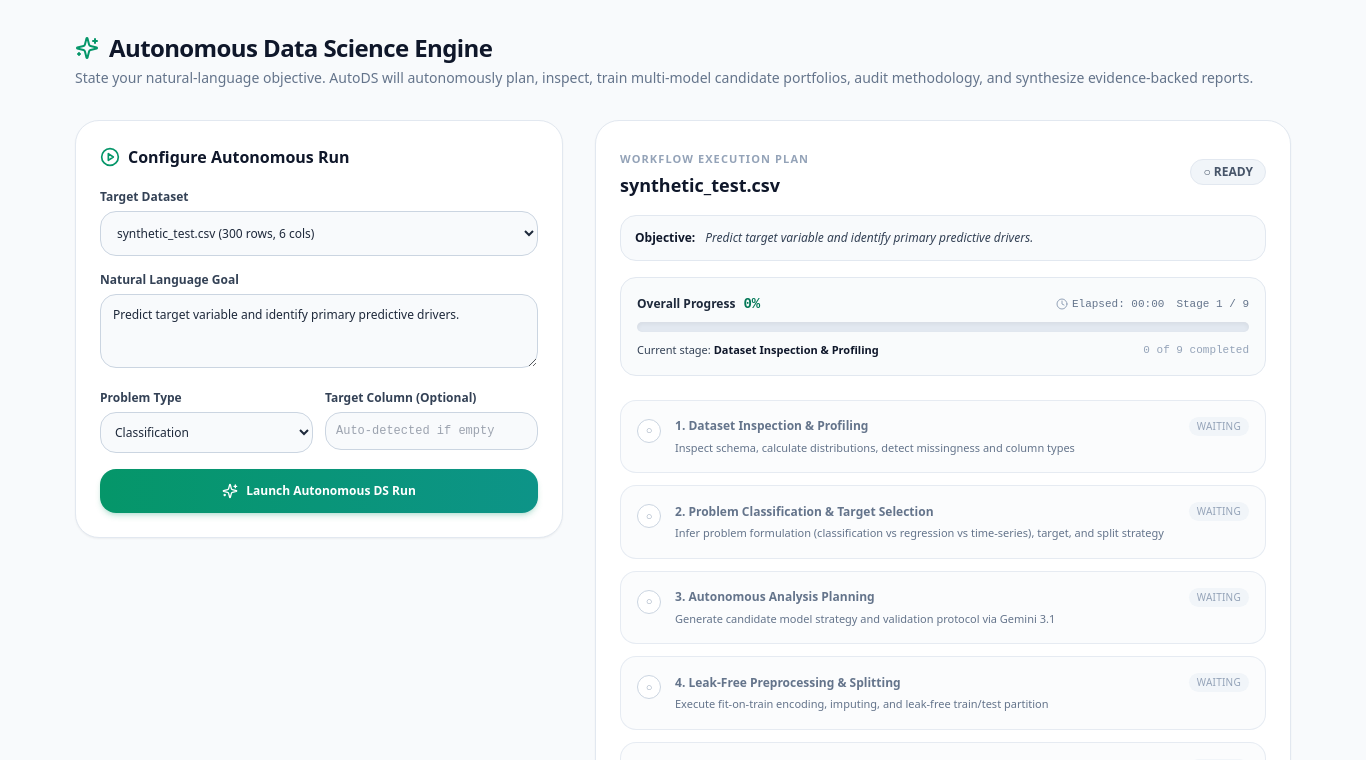
AnalysisPage Autonomous 9-Stage Real-Time Progress Experience › 2, 3, 4, 5, 6, 7, 10: Launches run with exact ID, renders RUNNING stage with evaluated models, checkmarks on completed, and deterministic progress %
This screenshot has width=1366, height=760.
// Launch run
Click the button "Launch Autonomous DS Run".
click(319, 491)  # box [100, 469, 538, 513]
(page scrolled)
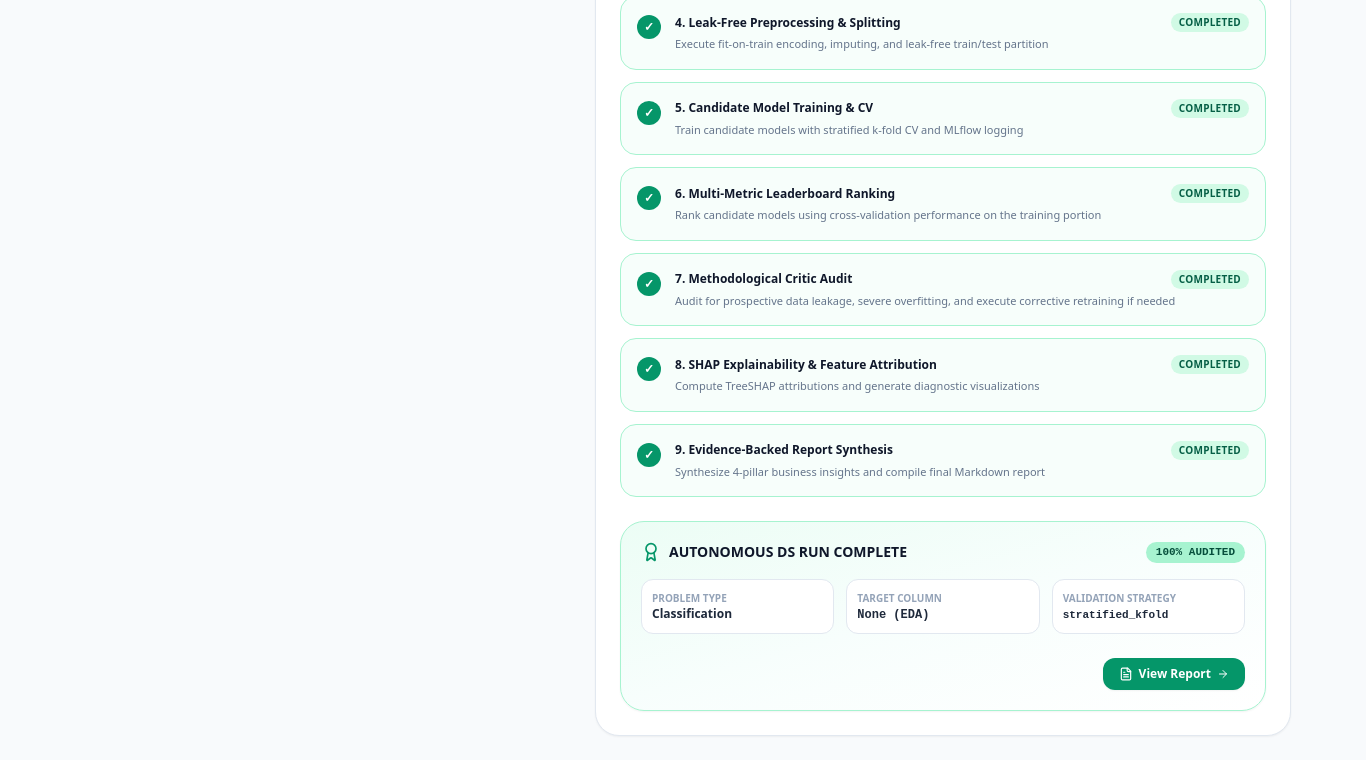
Expected: the heading "AUTONOMOUS DS RUN COMPLETE" is shown, [669, 542, 907, 562]
Expected: the link "View Report" is shown, [1103, 658, 1245, 690]
